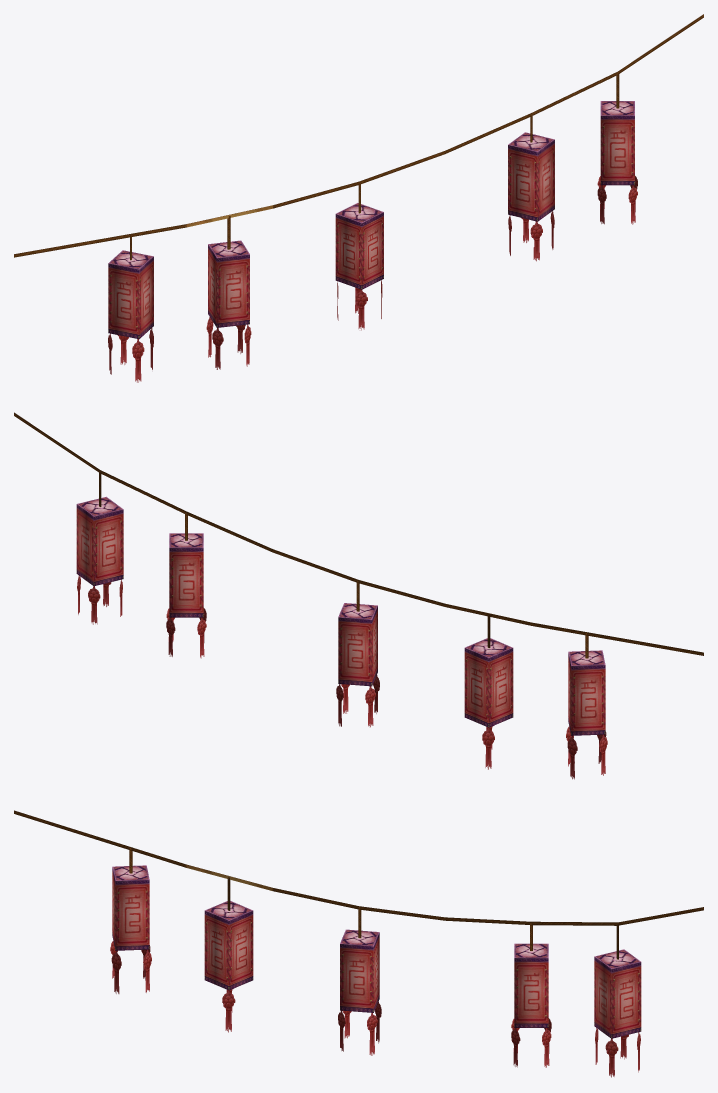
File: cj_luoyang_denglong01_54_09_2105out.fbx
3 renders of one model, top to bottom at view 1: azimuth 30°, elevation 25°; view 2: azimuth 150°, elevation 25°; view 3: azimuth 330°, elevation 25°, orthographic.
Visible parts, largest first — view 1: XWJ_灯笼002_001A; view 2: XWJ_灯笼002_001A; view 3: XWJ_灯笼002_001A.
Boxes of the visible parts, box(x1,y1,x2,y2) form: XWJ_灯笼002_001A: box(14, 14, 703, 382); XWJ_灯笼002_001A: box(14, 412, 703, 779); XWJ_灯笼002_001A: box(14, 810, 703, 1077).
Bounding box in the file's own units: 9.42 × 3.03 × 0.5655.
